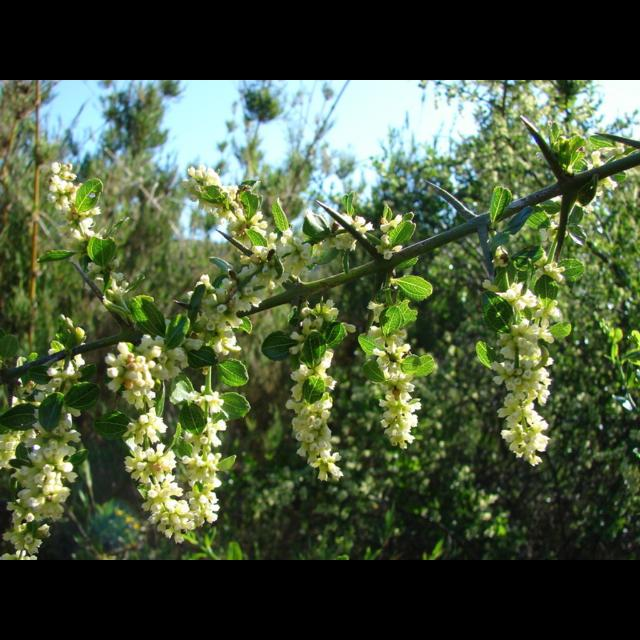Flower: (1, 144, 640, 558), (196, 392, 228, 422), (213, 418, 225, 430)
